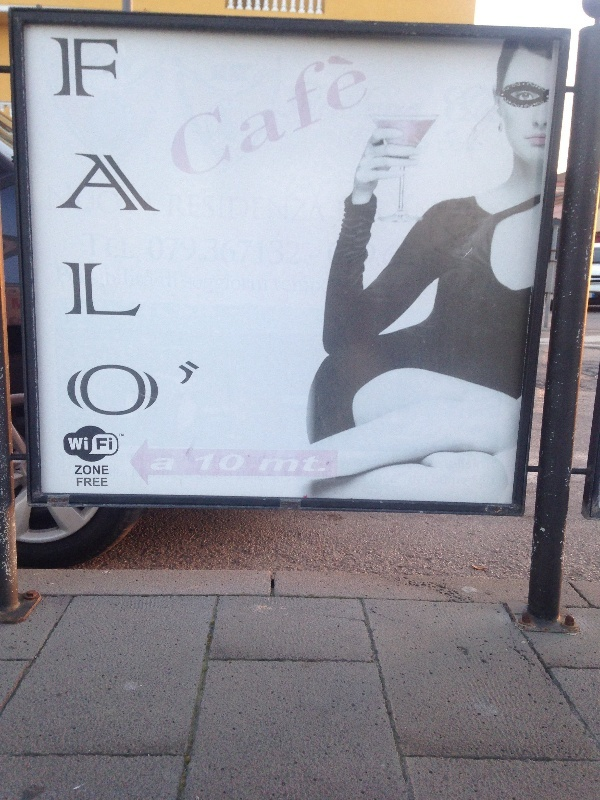text: (65, 33, 80, 431), (81, 33, 96, 431), (97, 33, 112, 431), (113, 33, 128, 431), (129, 33, 144, 431), (145, 33, 160, 431), (161, 33, 176, 431), (51, 33, 64, 431), (177, 44, 192, 189), (193, 44, 208, 189), (209, 44, 224, 189), (225, 44, 240, 189), (241, 44, 256, 189), (257, 44, 272, 189), (273, 44, 288, 189), (289, 44, 304, 189), (305, 44, 320, 189), (321, 44, 336, 189), (337, 44, 352, 189), (353, 44, 368, 189), (177, 33, 181, 431), (166, 44, 176, 189), (369, 44, 376, 189), (209, 453, 224, 472), (225, 453, 240, 472), (241, 453, 256, 472), (257, 453, 272, 472), (273, 453, 288, 472), (289, 453, 304, 472), (305, 453, 320, 472), (97, 437, 113, 451), (81, 437, 96, 451), (161, 457, 175, 472), (81, 464, 96, 477), (81, 476, 96, 489), (199, 453, 208, 472), (97, 464, 110, 477), (68, 437, 80, 451), (97, 476, 109, 489), (321, 453, 328, 472), (154, 457, 160, 472), (75, 464, 80, 477), (76, 476, 80, 489), (118, 433, 128, 438)
